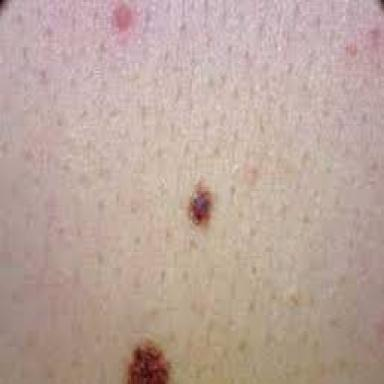Melanoma: (127, 338, 170, 384), (189, 179, 214, 230)
